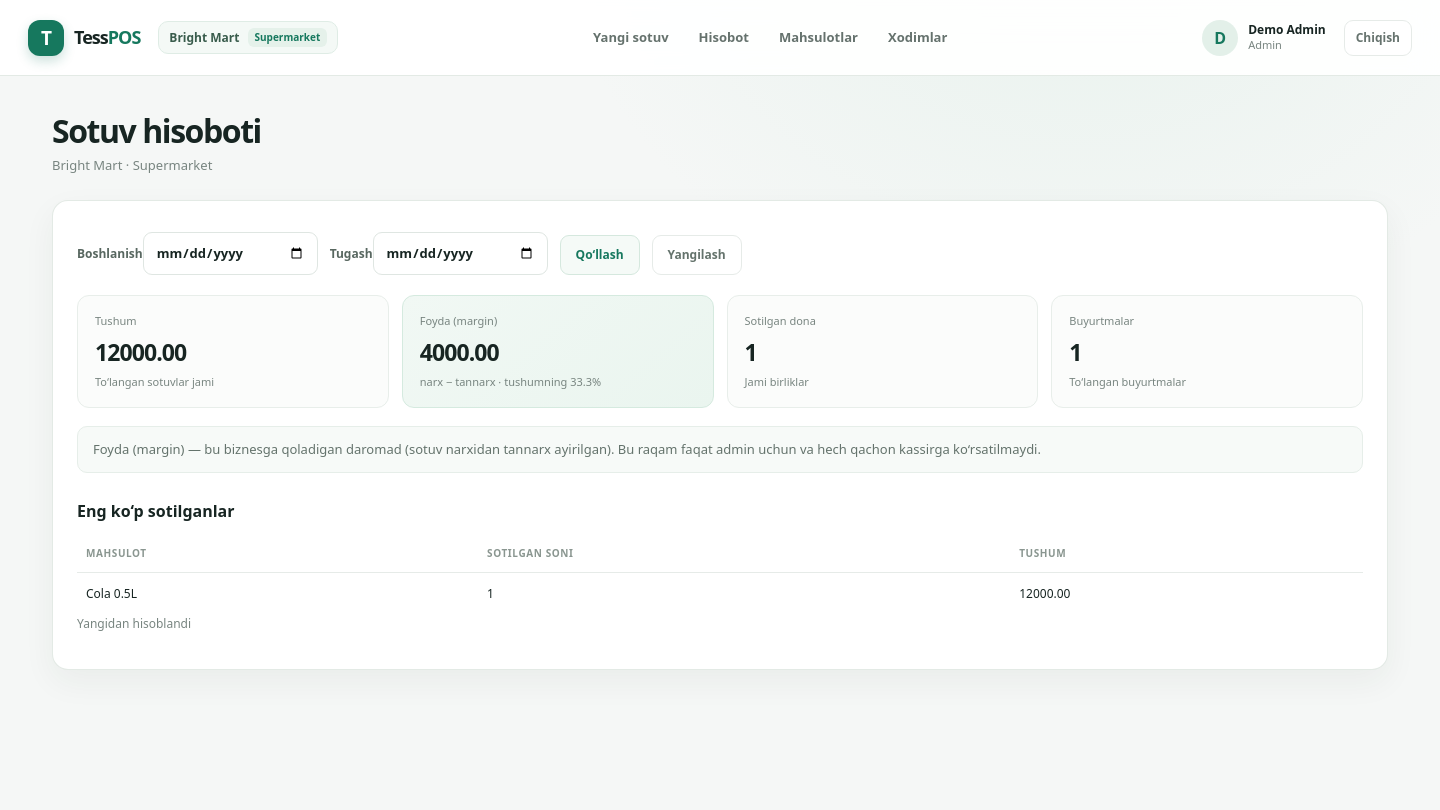
Test: application pages › filters report dates and rejects an invalid range
Expected: the text "Cola 0.5L" is shown, [77, 573, 478, 615]
Expected: the text "Foyda (margin)" is shown, [420, 313, 497, 328]
Type "2026-10-20" into the date field labelled "Boshlanish" at {"x": 230, "y": 254}, box [143, 232, 318, 275]
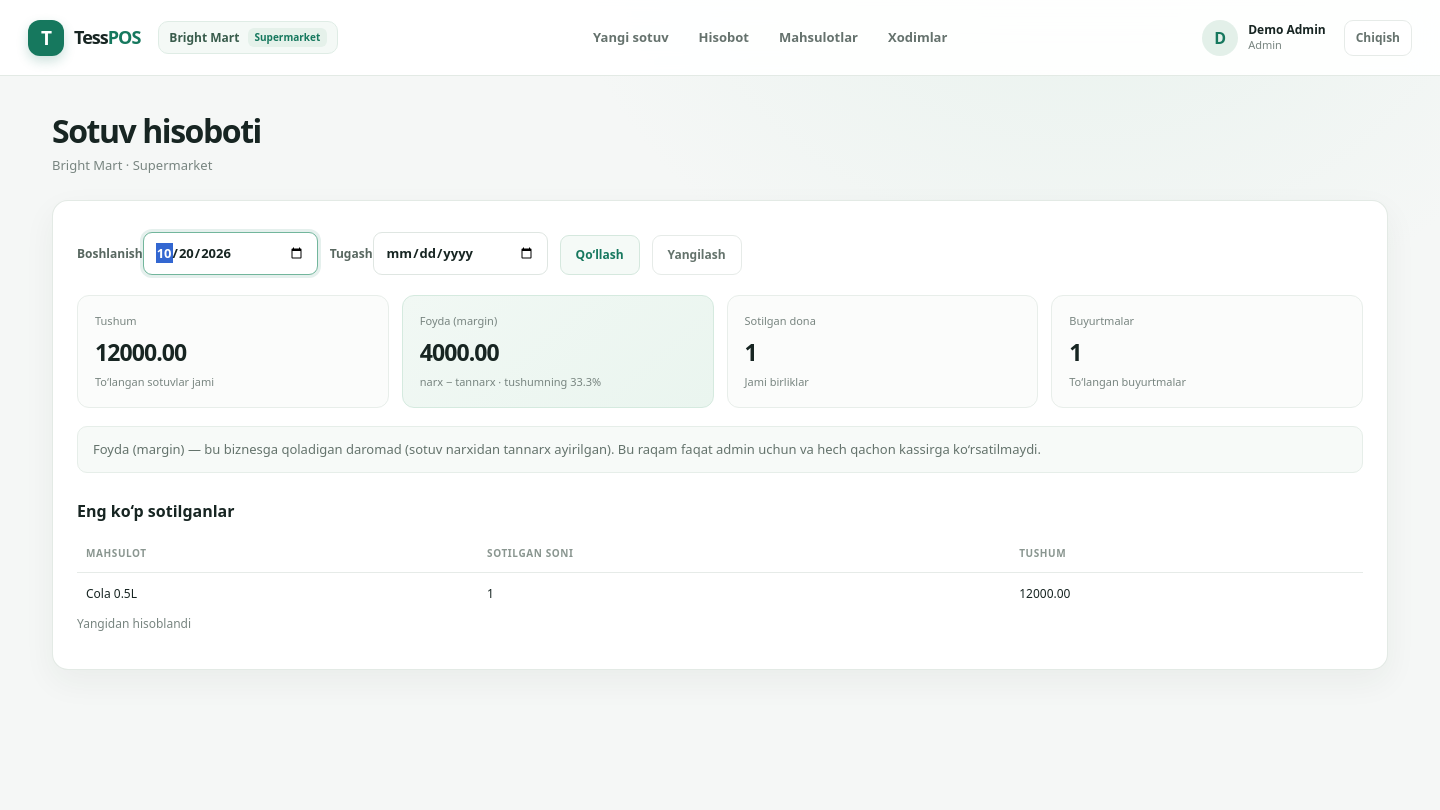
Type "2026-10-10" into the date field labelled "Tugash" at {"x": 460, "y": 254}, box [373, 232, 548, 275]
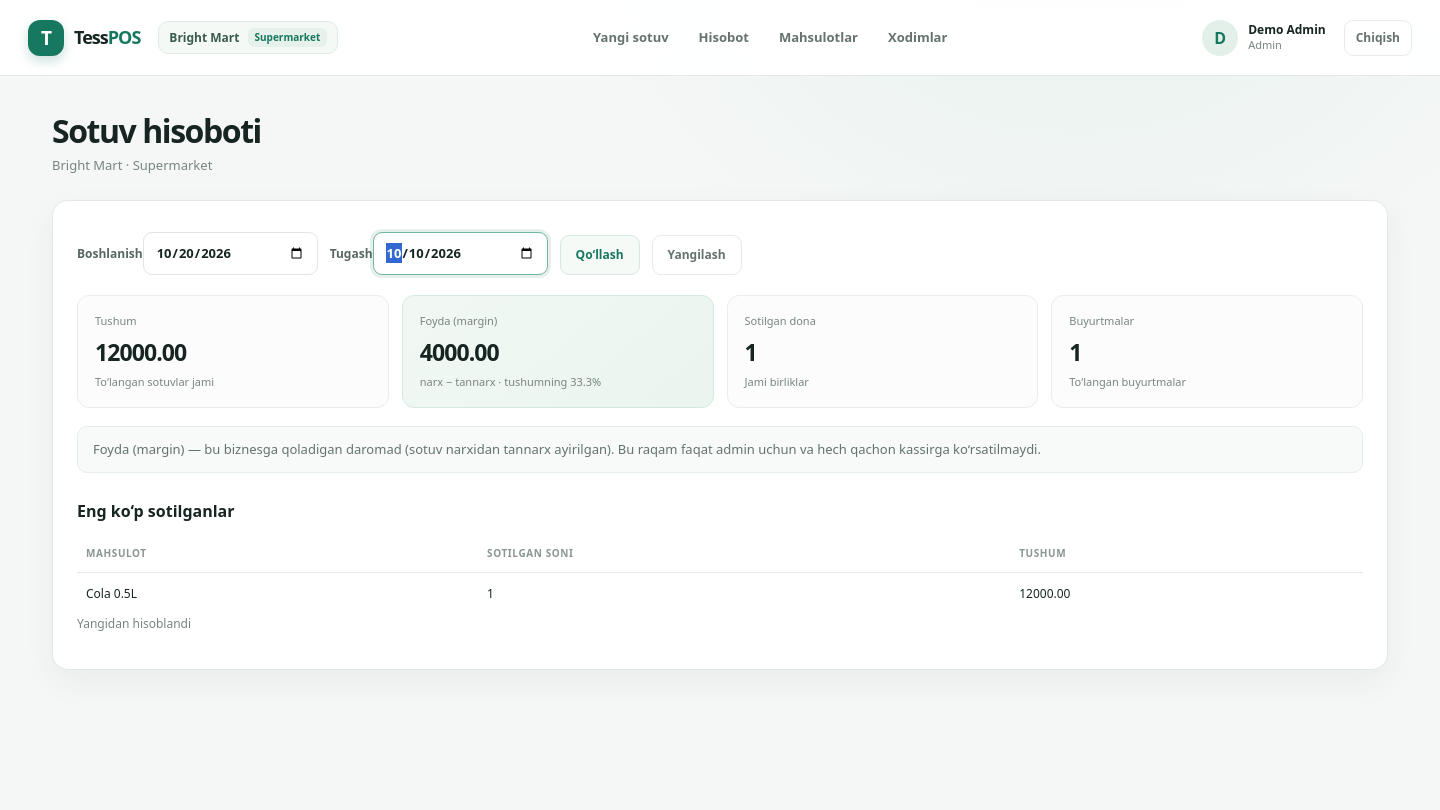
Click the button "Qo‘llash" at {"x": 600, "y": 255}, box [560, 235, 640, 275]
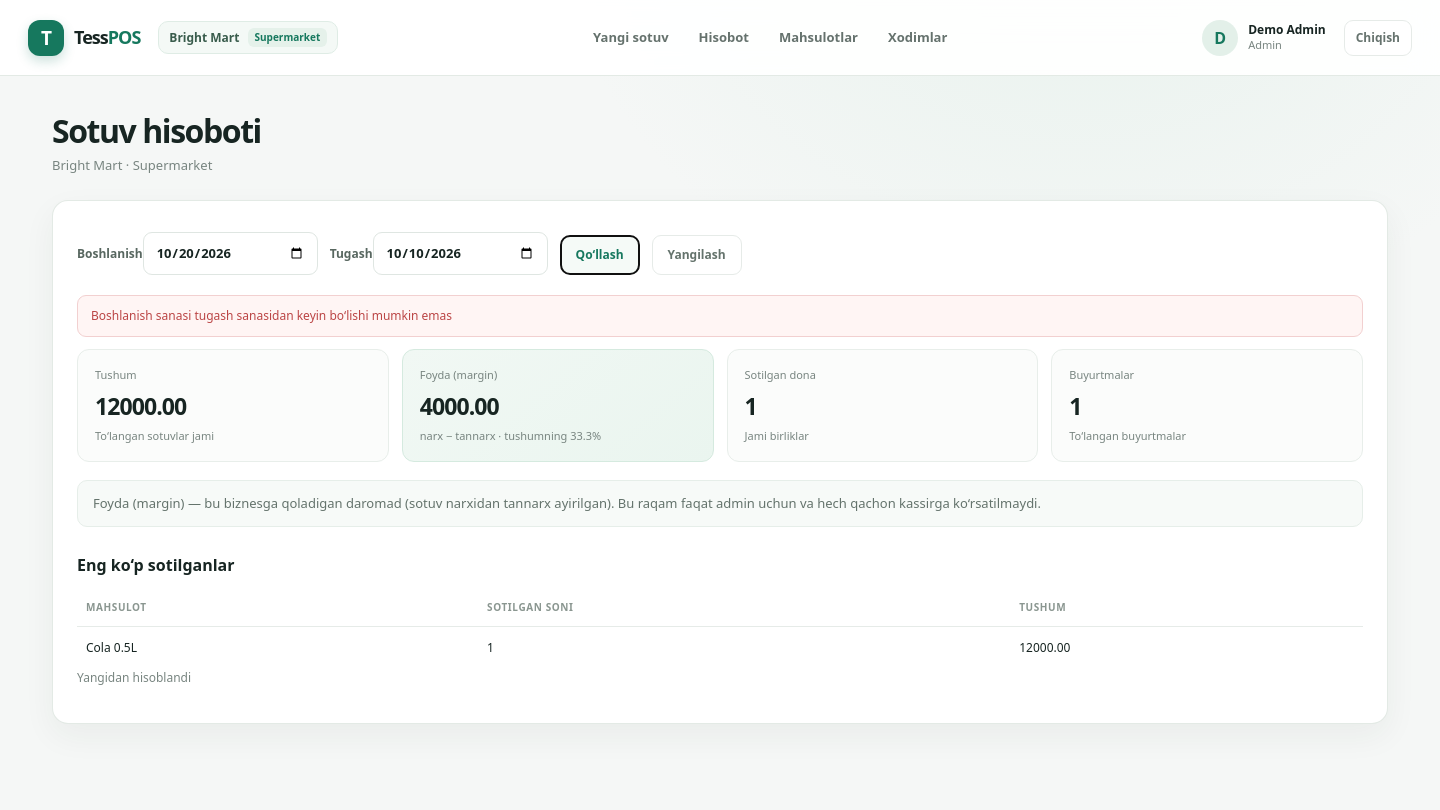
Now the text "Boshlanish sanasi tugash sanasidan keyin bo‘lishi mumkin emas" is shown, box [77, 295, 1363, 337]
